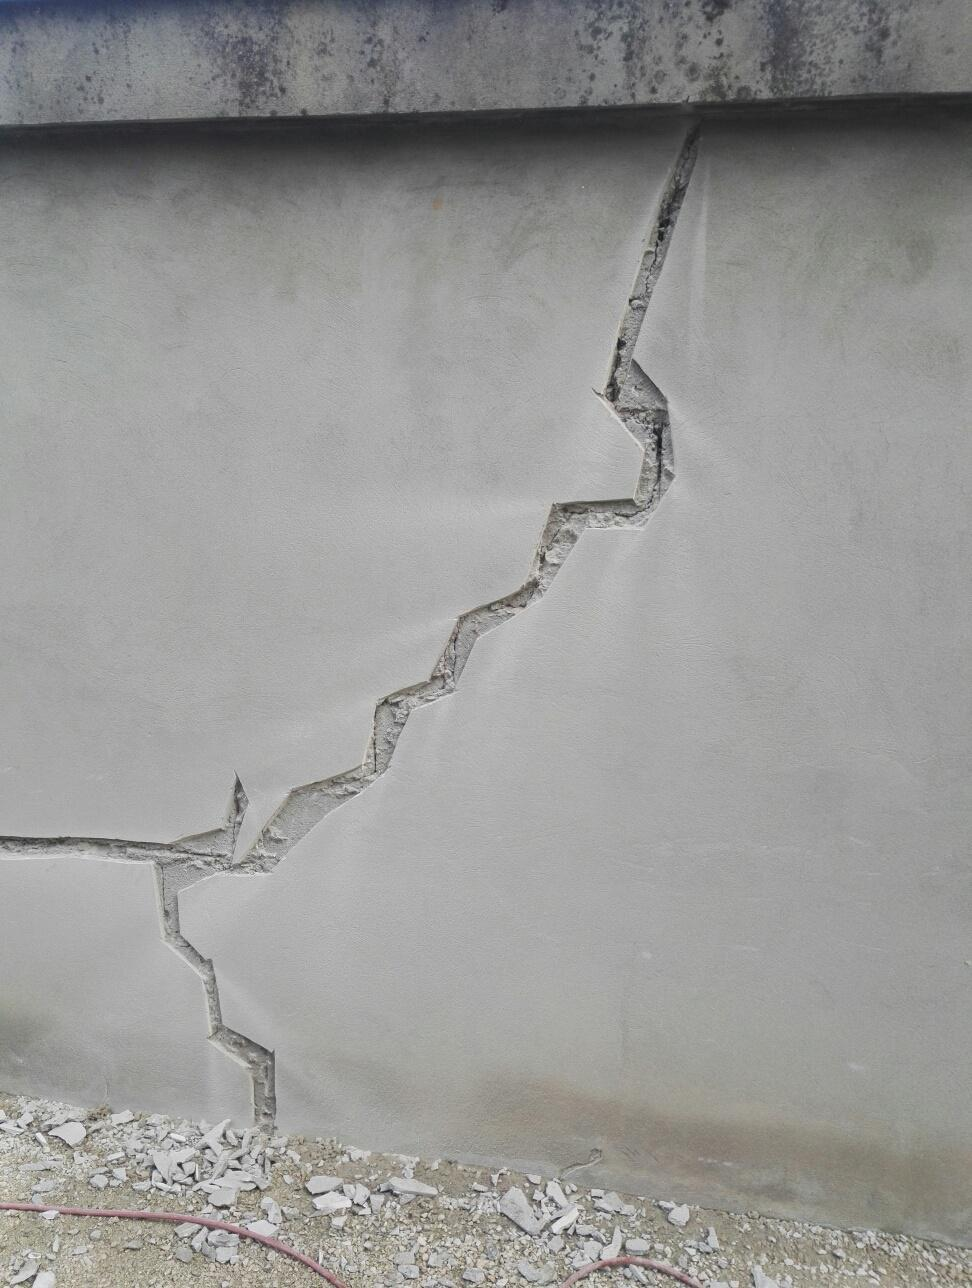crack: (0, 121, 704, 1134)
